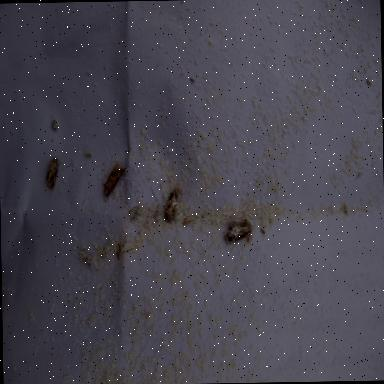pbw: (102, 162, 128, 198), (226, 219, 256, 250), (45, 157, 64, 192), (164, 189, 180, 225)
